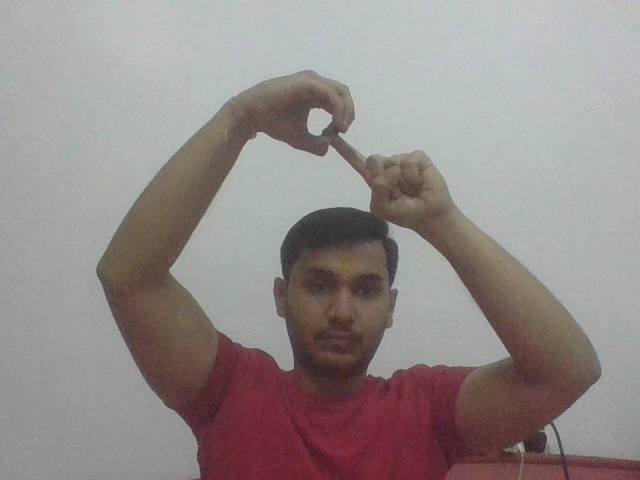Q: (273, 69, 409, 209)
